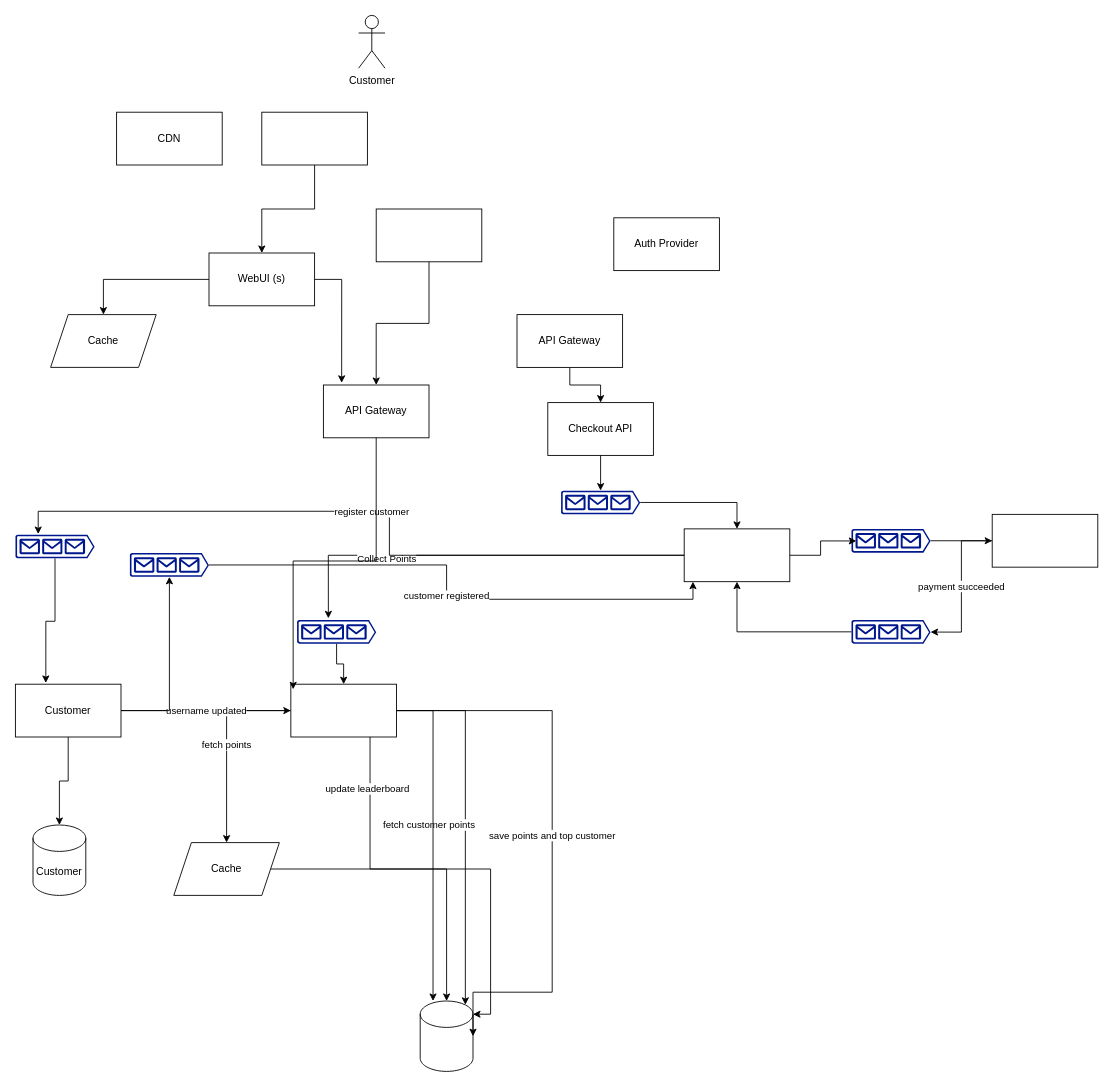
Some shapes in this 1113 by 1087 pixel diagram are drawn without their labels. Each missing label, with the centre of its shape:
Leader Board Service: (343,710)
Load Balancer: (314,138)
Mobile App: (428,235)
Order Service: (736,555)
Payment Service: (1044,540)
Points SQL: (446,1035)
